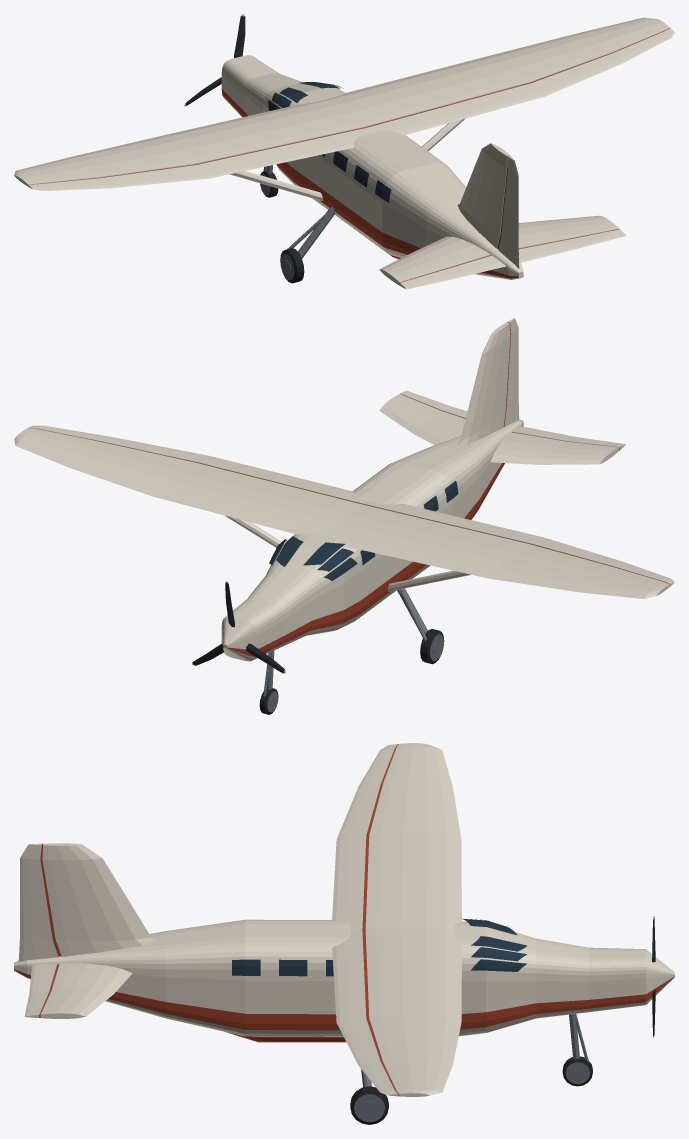
The picture shows the model from 3 angles, top to bottom: view 1: azimuth 30°, elevation 25°; view 2: azimuth 150°, elevation 25°; view 3: azimuth 270°, elevation 25°; orthographic projection. The views are drawn at different scales.
Visible parts, largest first — view 1: wing, airframe, wing_control, tailplane, fin, tailplane_control, gear, fin_control, glazing, wing_strut, wing_hinge, propeller; view 2: wing, airframe, wing_control, tailplane, fin, glazing, gear, tailplane_control, fin_control, wing_strut, propeller; view 3: airframe, wing, wing_control, fin, tailplane, fin_control, glazing, gear, wing_hinge, tailplane_control, cargo_pod.
Boxes of the visible parts, left/top/right/bottom form: wing: left=14, top=17, right=669, bottom=186; airframe: left=221, top=55, right=523, bottom=279; wing_control: left=28, top=28, right=674, bottom=190; tailplane: left=379, top=215, right=619, bottom=285; fin: left=457, top=143, right=510, bottom=248; tailplane_control: left=400, top=229, right=626, bottom=289; gear: left=260, top=165, right=335, bottom=283; fin_control: left=498, top=156, right=519, bottom=268; glazing: left=268, top=82, right=391, bottom=202; wing_strut: left=230, top=118, right=465, bottom=200; wing_hinge: left=28, top=28, right=669, bottom=186; propeller: left=184, top=14, right=245, bottom=106; wing: left=14, top=428, right=669, bottom=598; airframe: left=221, top=419, right=523, bottom=661; wing_control: left=28, top=425, right=674, bottom=585; tailplane: left=379, top=394, right=619, bottom=464; fin: left=457, top=322, right=510, bottom=446; glazing: left=269, top=481, right=458, bottom=580; gear: left=259, top=588, right=444, bottom=714; tailplane_control: left=400, top=390, right=625, bottom=449; fin_control: left=504, top=318, right=519, bottom=426; wing_strut: left=225, top=515, right=471, bottom=591; propeller: left=192, top=581, right=285, bottom=673; airframe: left=14, top=919, right=674, bottom=1036; wing: left=365, top=743, right=461, bottom=1096; wing_control: left=332, top=744, right=398, bottom=1096; fin: left=42, top=843, right=156, bottom=956; tailplane: left=40, top=963, right=132, bottom=1018; fin_control: left=18, top=843, right=58, bottom=961; glazing: left=232, top=918, right=526, bottom=976; gear: left=350, top=1014, right=592, bottom=1124; wing_hinge: left=362, top=744, right=399, bottom=1096; tailplane_control: left=24, top=963, right=57, bottom=1017; cargo_pod: left=224, top=1031, right=345, bottom=1042.
Size of the model in its own units: 15.88 by 5.09 by 12.67.
